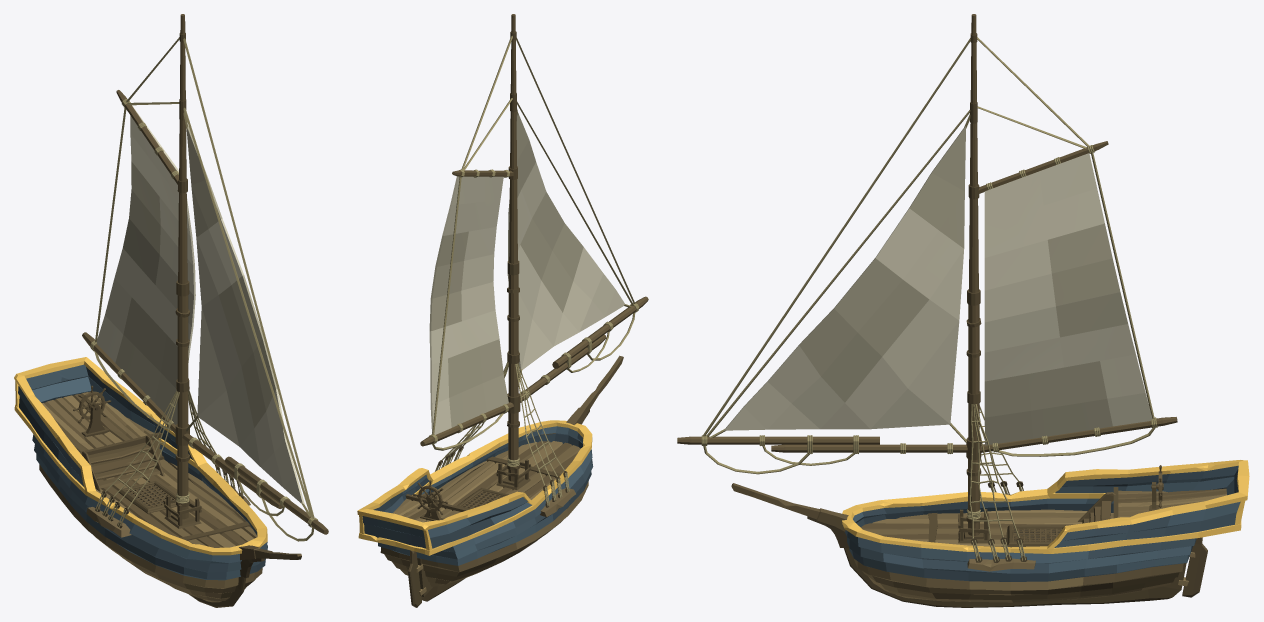
File: LowPolyShip.fbx
The picture shows the model from 3 angles, left to right: view 1: azimuth 30°, elevation 25°; view 2: azimuth 150°, elevation 25°; view 3: azimuth 270°, elevation 25°; orthographic projection. The views are drawn at different scales.
Visible parts, largest first — view 1: Cube.002, SmallShip_1_Sails, SmallShip_1_Mast, SmallShip_1_ShipWheel; view 2: SmallShip_1_Sails, Cube.002, SmallShip_1_Mast, SmallShip_1_ShipWheel; view 3: SmallShip_1_Sails, Cube.002, SmallShip_1_Mast.
Boxes of the visible parts, x1,y1,x2,y2 form: Cube.002: (14,357,301,607); SmallShip_1_Sails: (96,105,304,504); SmallShip_1_Mast: (82,14,328,541); SmallShip_1_ShipWheel: (73,385,111,423); SmallShip_1_Sails: (429,113,625,434); Cube.002: (357,355,623,607); SmallShip_1_Mast: (420,14,648,481); SmallShip_1_ShipWheel: (412,480,447,517); SmallShip_1_Sails: (724,126,1152,445); Cube.002: (731,404,1249,607); SmallShip_1_Mast: (677,14,1177,535).
Bounding box in the file's own units: 542 × 2222 × 1943.
